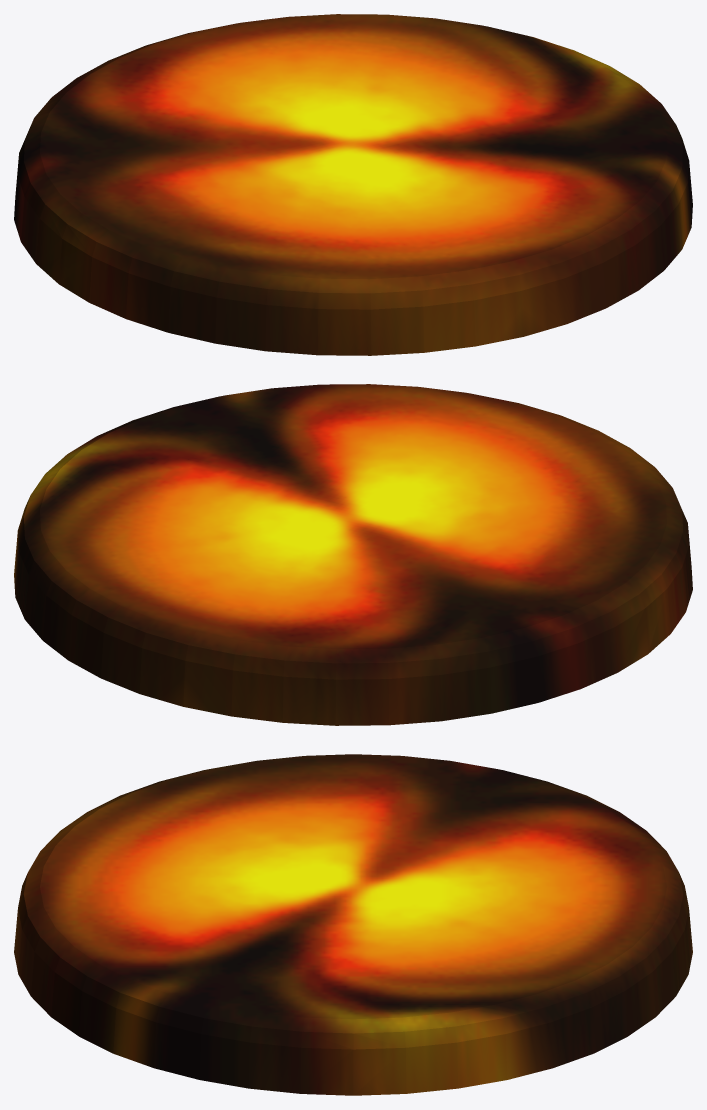
File: TrophyStand.glb
The picture shows the model from 3 angles, top to bottom: view 1: azimuth 30°, elevation 25°; view 2: azimuth 150°, elevation 25°; view 3: azimuth 270°, elevation 25°; orthographic projection.
Visible parts, largest first — view 1: Mesh_0019; view 2: Mesh_0019; view 3: Mesh_0019.
Boxes of the visible parts, <box> form: Mesh_0019: <box>14,14,692,355</box>; Mesh_0019: <box>14,384,692,725</box>; Mesh_0019: <box>14,754,692,1095</box>.
Bounding box in the file's own units: 1.39 × 0.1512 × 1.39.
1 material, 1 textured.
